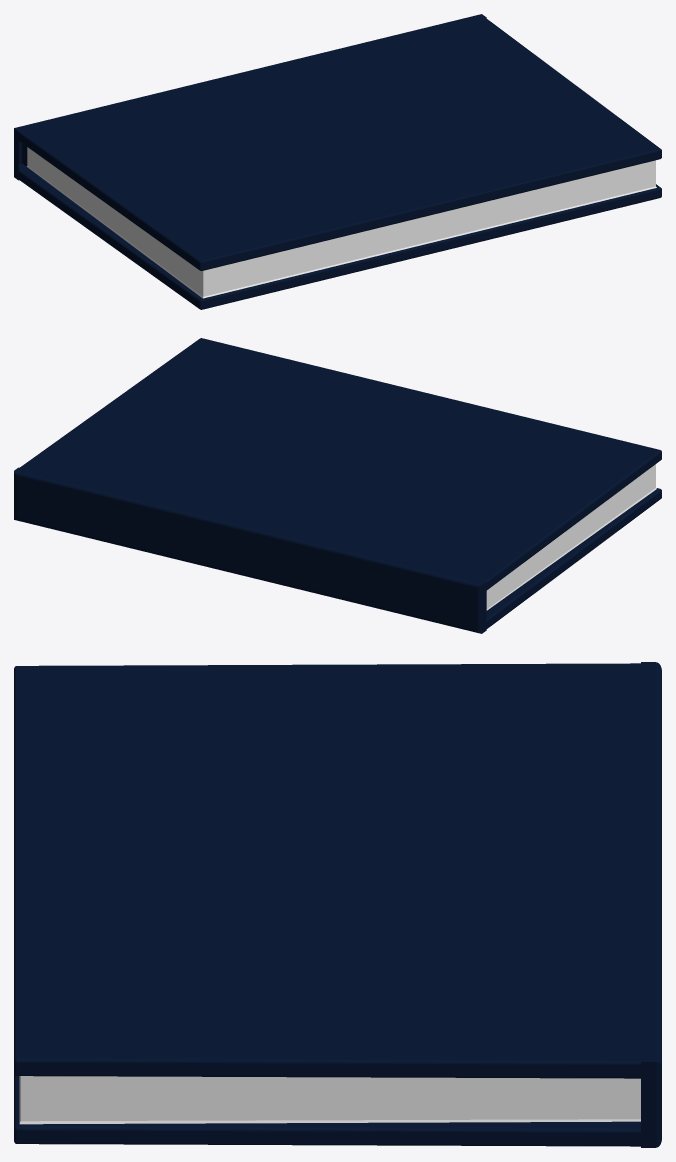
The picture shows the model from 3 angles, top to bottom: view 1: azimuth 30°, elevation 25°; view 2: azimuth 150°, elevation 25°; view 3: azimuth 270°, elevation 25°; orthographic projection. The views are drawn at different scales.
Visible parts, largest first — view 1: Couverture, Pages; view 2: Couverture, Pages; view 3: Couverture, Pages.
Part boxes in pixels (left/top/right/bottom): Couverture: left=14, top=14, right=661, bottom=309; Pages: left=26, top=147, right=656, bottom=298; Couverture: left=14, top=338, right=661, bottom=633; Pages: left=486, top=464, right=656, bottom=610; Couverture: left=14, top=662, right=661, bottom=1147; Pages: left=19, top=1076, right=640, bottom=1124.
Bounding box in the file's own units: 3.07 × 0.3062 × 2.1.
